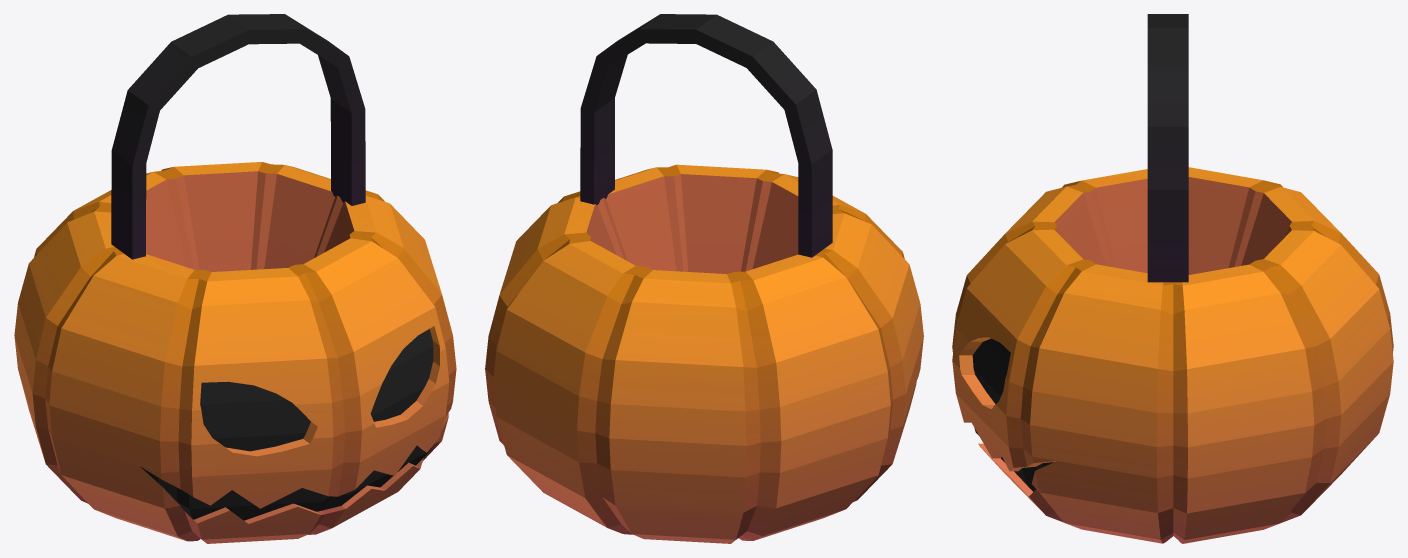
The model's file is calabaza.fbx.
The picture shows the model from 3 angles, left to right: view 1: azimuth 30°, elevation 25°; view 2: azimuth 150°, elevation 25°; view 3: azimuth 270°, elevation 25°; orthographic projection.
Visible parts, largest first — view 1: calabaza; view 2: calabaza; view 3: calabaza.
Part boxes in pixels (bbox=[...]): calabaza: bbox=[14, 14, 456, 543]; calabaza: bbox=[485, 14, 923, 543]; calabaza: bbox=[952, 14, 1393, 543].
Bounding box in the file's own units: 26.24 × 31.09 × 26.12.
1 material, 1 textured.
